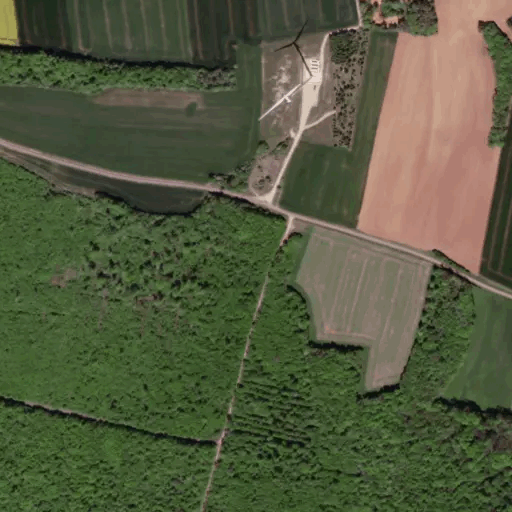wt: (255, 20, 319, 124)
